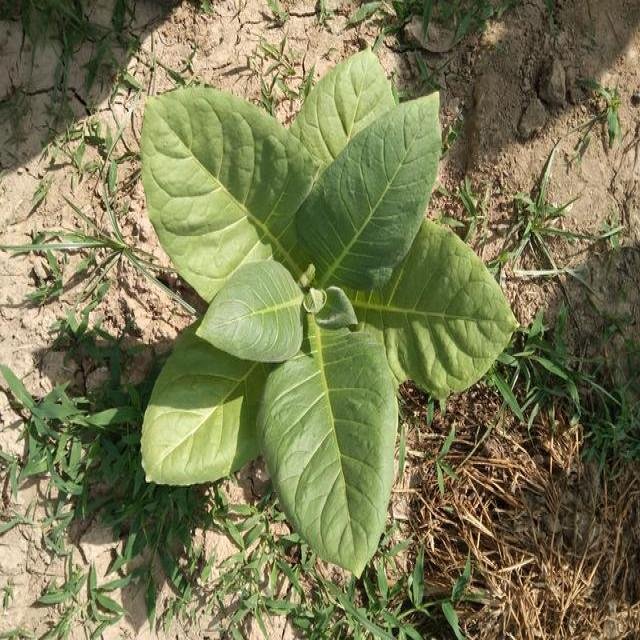crop: (127, 51, 516, 575)
